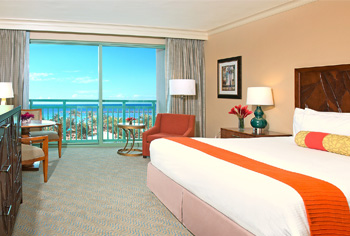chair: (143, 112, 195, 158), (20, 109, 64, 155), (20, 135, 49, 182)
